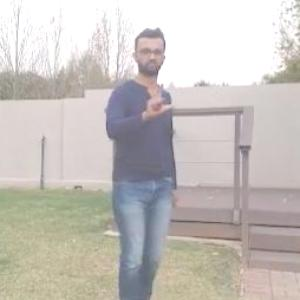land_hand: (142, 78, 175, 118)
